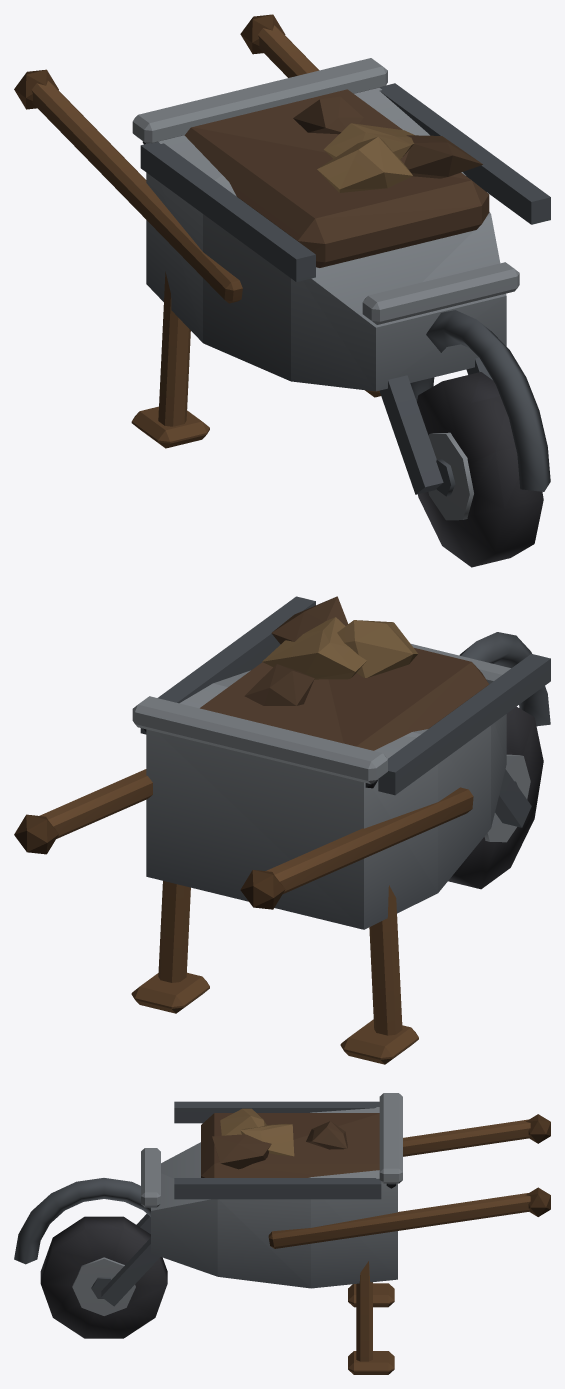
File: wheelbarrow.glb
3 renders of one model, top to bottom at view 1: azimuth 30°, elevation 25°; view 2: azimuth 150°, elevation 25°; view 3: azimuth 270°, elevation 25°, orthographic. The views are drawn at different scales.
Visible parts, largest first — view 1: wheelbarrow; view 2: wheelbarrow; view 3: wheelbarrow.
Boxes of the visible parts, left/top/right/bottom form: wheelbarrow: left=14, top=14, right=550, bottom=567; wheelbarrow: left=14, top=596, right=550, bottom=1064; wheelbarrow: left=14, top=1093, right=550, bottom=1374.
Bounding box in the file's own units: 0.6 × 0.7378 × 1.61.
